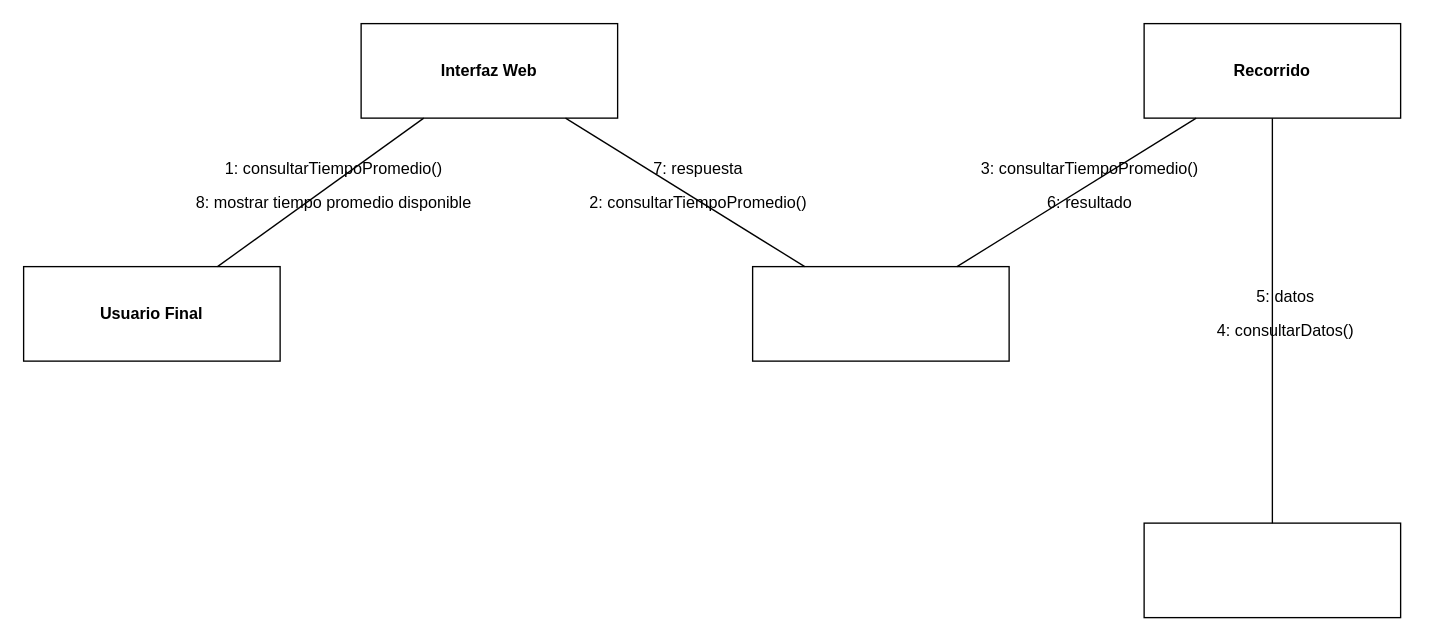
This 1451x641 diagram has some shape labels left out. Here are the shapes that lost their labels. From the top down, the centre of each, then its label:
the point at 880,313: RecorridoController
the point at 1272,570: Supabase/PostgreSQL
